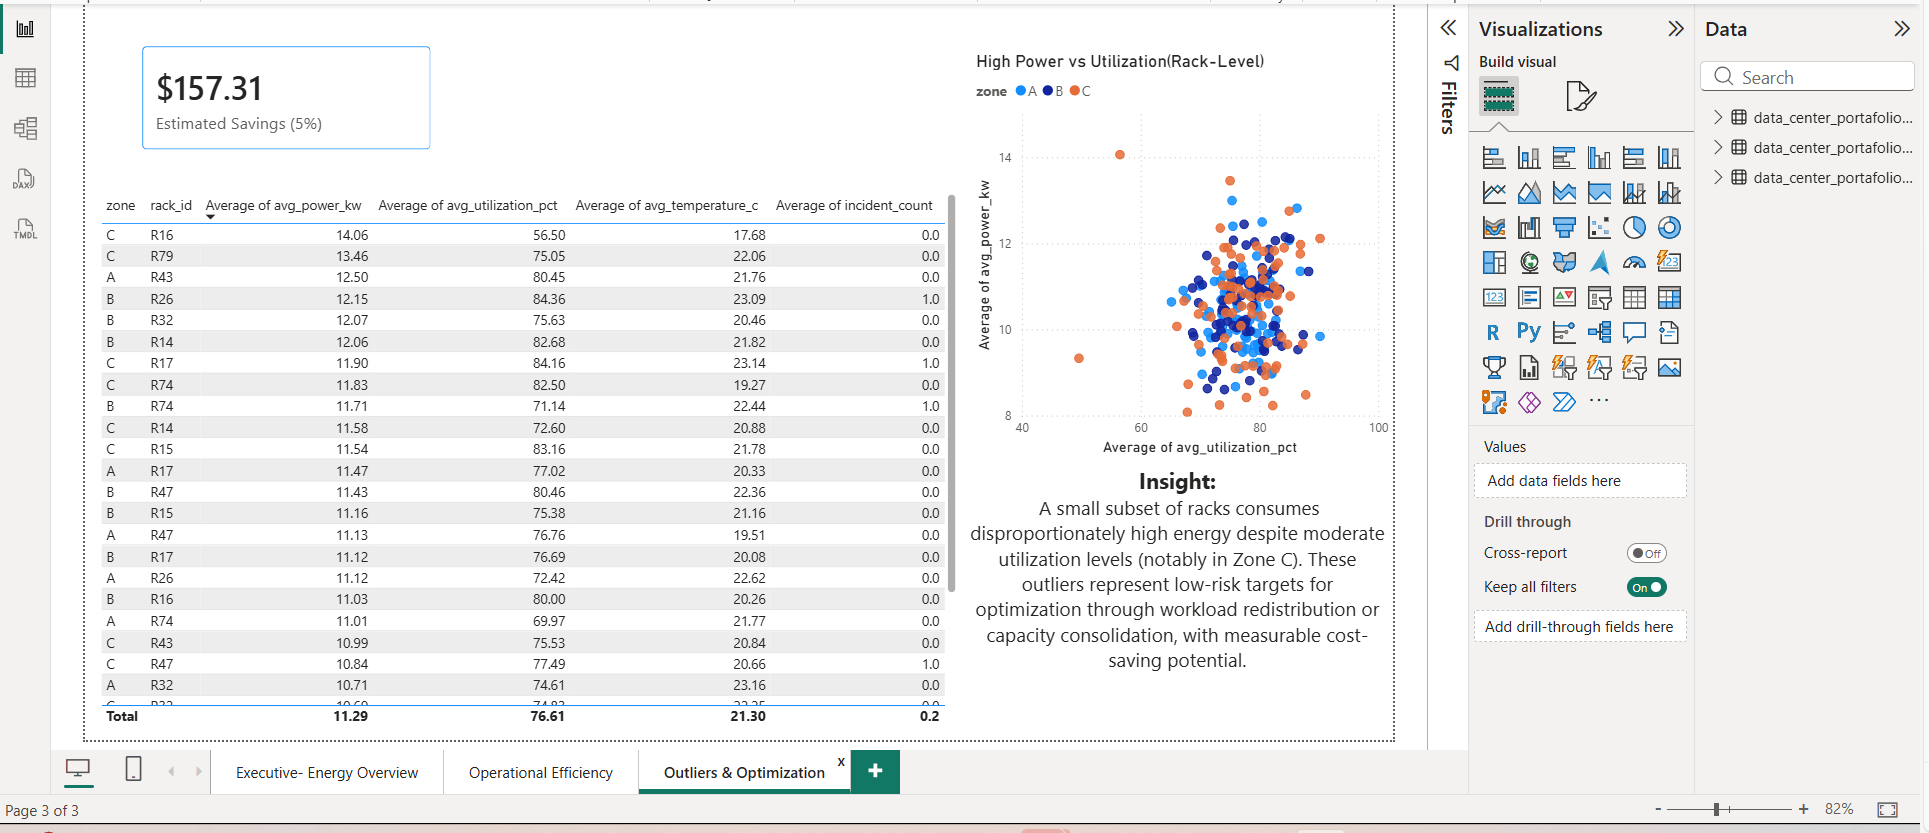

This screenshot's page, from the dashboard's own definition file:
{"tool":"powerbi","page":{"name":"Outliers & Optimization","canvas":[1280,720],"ordinal":2},"visuals":[{"type":"cardVisual","fields":{"Data":["data_center_portafolio vw_kpi_daily_energy_cost.Estimated Savings (5%)"]},"box":[39.1,24.5,316.7,135.7],"z":0},{"type":"tableEx","fields":{"Values":["data_center_portafolio vw_kpi_top_racks_power.zone","data_center_portafolio vw_kpi_top_racks_power.rack_id","Avg(data_center_portafolio vw_kpi_top_racks_power.avg_power_kw)","Avg(data_center_portafolio vw_kpi_top_racks_power.avg_utilization_pct)","Avg(data_center_portafolio vw_kpi_top_racks_power.avg_temperature_c)","Avg(data_center_portafolio vw_kpi_top_racks_power.incident_count)"]},"box":[9.8,181,847.4,530.7],"z":1},{"type":"scatterChart","title":"High Power vs Utilization(Rack-Level)","fields":{"X":["Avg(data_center_portafolio vw_kpi_top_racks_power.avg_utilization_pct)"],"Y":["Avg(data_center_portafolio vw_kpi_top_racks_power.avg_power_kw)"],"Series":["data_center_portafolio vw_kpi_top_racks_power.zone"],"Category":["data_center_portafolio vw_kpi_top_racks_power.rack_id"]},"box":[867,45.2,413.3,401.1],"z":2},{"type":"textbox","box":[857.2,446.3,423.1,273.9],"z":3}]}

Visuals, with their boxes on the page's 1280x720 design canvas (x1, y1, x2, y2). These are canvas units, not pixel positions in the 1929x833 screenshot, which may show the page scaled, cropped or inside an application window:
cardVisual - data_center_portafolio vw_kpi_daily_energy_cost.Estimated Savings (5%): [39,24,356,160]
tableEx - data_center_portafolio vw_kpi_top_racks_power.zone x data_center_portafolio vw_kpi_top_racks_power.rack_id: [10,181,857,712]
"High Power vs Utilization(Rack-Level)" scatterChart: [867,45,1280,446]
textbox: [857,446,1280,720]
